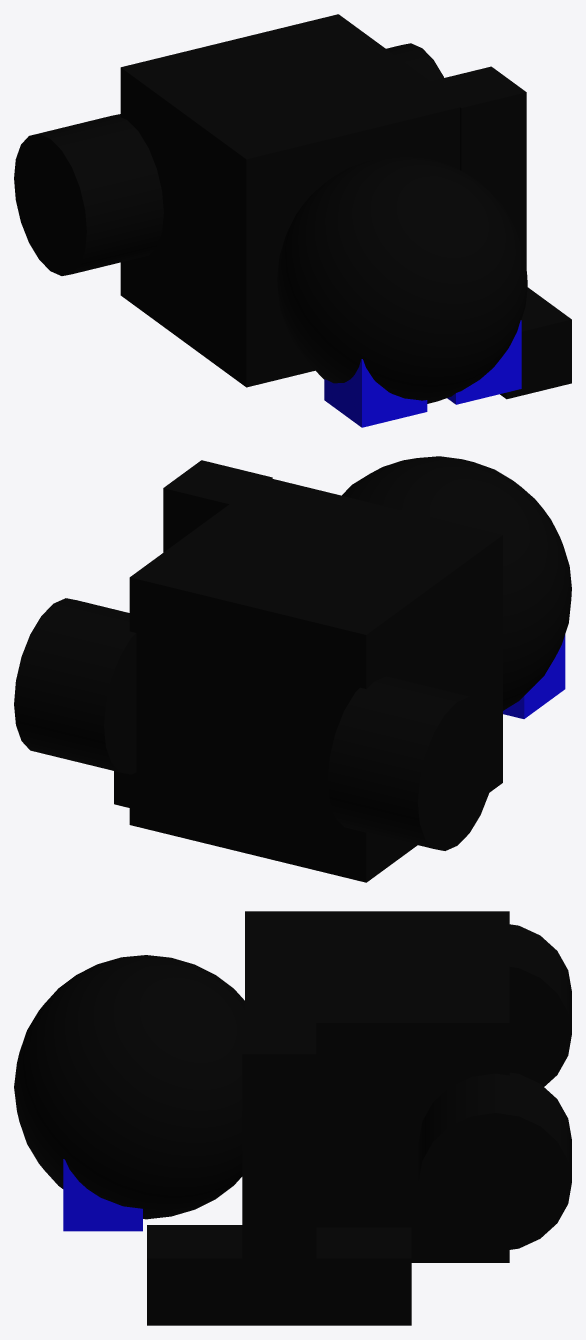
Rendered from Position1.fbx.
3 renders of one model, top to bottom at view 1: azimuth 30°, elevation 25°; view 2: azimuth 150°, elevation 25°; view 3: azimuth 270°, elevation 25°, orthographic. The views are drawn at different scales.
Parts seen in each view (by area): view 1: Position1, Head, Wheel_2, Hand_1, Hand_2, Eye_1, Eye_2, Wheel_1; view 2: Position1, Wheel_2, Head, Wheel_1, Hand_1, Eye_1, Hand_2; view 3: Position1, Head, Hand_2, Wheel_1, Hand_1, Wheel_2, Eye_2.
Part boxes in pixels (x1,y1,x2,y2): Position1: (120, 14, 459, 387); Head: (277, 156, 527, 403); Wheel_2: (14, 114, 163, 275); Hand_1: (426, 66, 526, 267); Hand_2: (500, 287, 571, 399); Eye_1: (324, 359, 427, 427); Eye_2: (447, 320, 521, 404); Wheel_1: (386, 43, 443, 81); Position1: (129, 477, 502, 882); Wheel_2: (328, 676, 496, 850); Head: (342, 456, 571, 710); Wheel_1: (14, 598, 136, 774); Hand_1: (163, 460, 272, 552); Eye_1: (503, 634, 565, 718); Hand_2: (114, 771, 129, 807); Position1: (245, 911, 509, 1262); Head: (14, 955, 244, 1219); Hand_2: (147, 1225, 411, 1325); Wheel_1: (418, 1072, 571, 1251); Hand_1: (242, 1021, 316, 1294); Wheel_2: (509, 924, 571, 1086); Eye_2: (63, 1159, 142, 1231).
Size of the model in its own units: 1365 by 905 by 1687.
